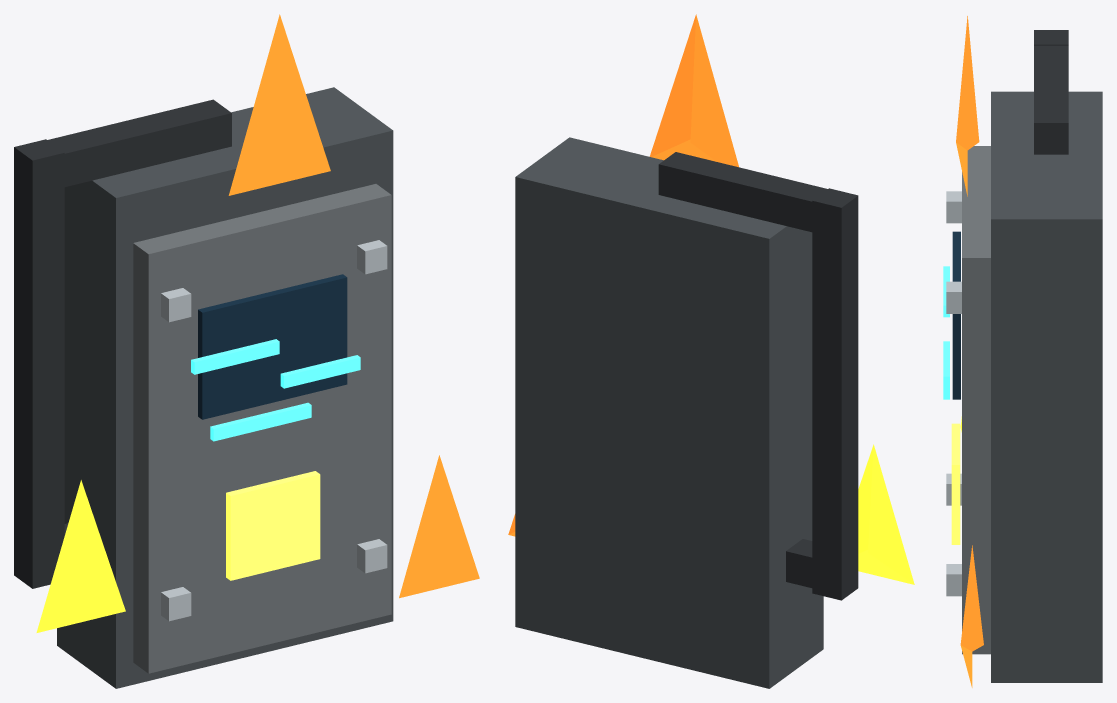
Rendered from fusebox-hazard.glb.
The picture shows the model from 3 angles, left to right: view 1: azimuth 30°, elevation 25°; view 2: azimuth 150°, elevation 25°; view 3: azimuth 270°, elevation 25°; orthographic projection. The views are drawn at different scales.
Parts seen in each view (by area): view 1: Fusebox door, Fusebox casing, Left conduit vertical, Electrical inspection window, Left conduit upper, Flame top, Hazard warning label, Flame left, Flame right, Electric arc three, Electric arc one, Electric arc two (+4 smaller); view 2: Fusebox casing, Left conduit vertical, Left conduit upper, Flame top, Flame left, Left conduit lower; view 3: Fusebox casing, Fusebox door, Left conduit upper, Flame top, Flame right, Electrical inspection window, Hazard warning label, Left conduit vertical, Bolt upper left, Bolt upper right, Bolt lower right, Electric arc two (+1 smaller).
Boxes of the visible parts, x1,y1,x2,y2 form: Fusebox door: (133,184,391,673); Fusebox casing: (57,87,393,688); Left conduit vertical: (14,139,64,588); Electrical inspection window: (198,274,347,419); Left conduit upper: (35,99,231,193); Flame top: (228,14,330,195); Hazard warning label: (226,471,320,580); Flame left: (36,480,125,632); Flame right: (399,455,479,598); Electric arc three: (210,402,311,441); Electric arc one: (191,339,279,374); Electric arc two: (280,355,360,388); Fusebox casing: (515,137,823,688); Left conduit vertical: (812,188,858,600); Left conduit upper: (658,152,838,238); Flame top: (649,14,738,167); Flame left: (858,444,914,584); Left conduit lower: (786,539,826,591); Fusebox casing: (991,91,1102,682); Fusebox door: (962,146,990,654); Left conduit upper: (1034,45,1068,154); Flame top: (956,16,979,196); Flame right: (960,545,983,687); Electrical inspection window: (952,231,960,399); Hazard warning label: (951,423,960,544); Left conduit vertical: (1034,30,1068,45); Bolt upper left: (946,191,961,223); Bolt upper right: (946,281,961,313); Bolt lower right: (946,564,961,596); Electric arc two: (943,341,949,388).
Size of the model in its own units: 1.04 by 1.45 by 0.342.
